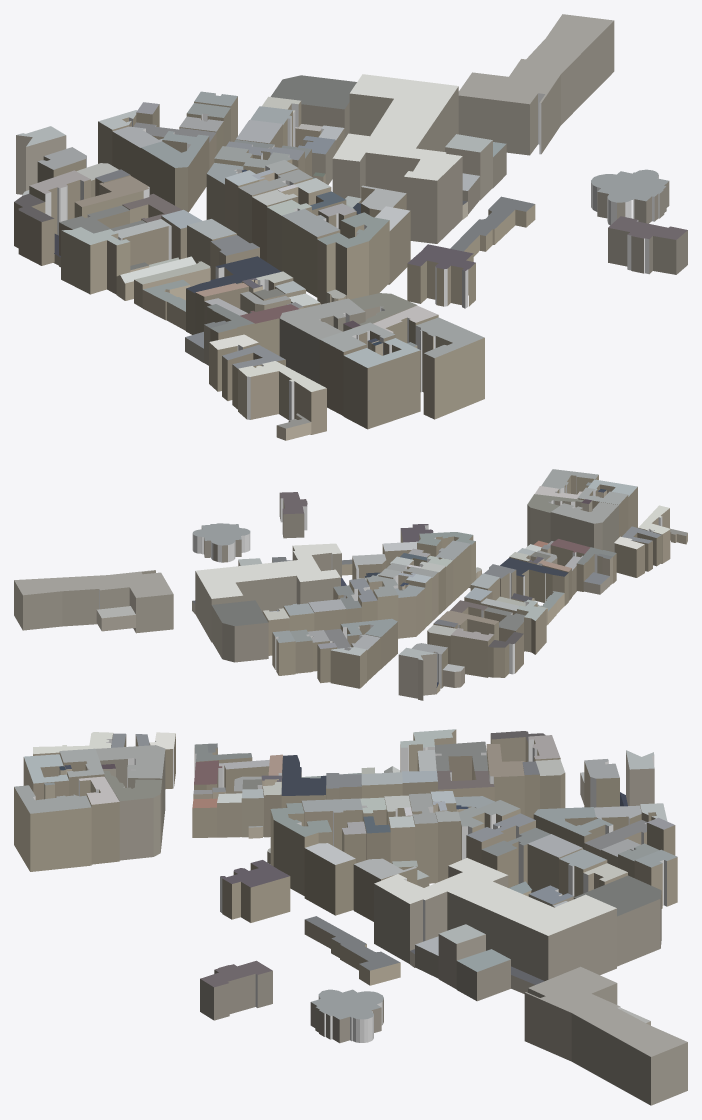
The picture shows the model from 3 angles, top to bottom: view 1: azimuth 30°, elevation 25°; view 2: azimuth 150°, elevation 25°; view 3: azimuth 270°, elevation 25°; orthographic projection. The views are drawn at different scales.
Visible parts, largest first — view 1: tuile; view 2: tuile; view 3: tuile.
Boxes of the visible parts, x1=… form: tuile: x1=14, y1=14, x2=687, y2=440; tuile: x1=14, y1=469, x2=687, y2=700; tuile: x1=14, y1=729, x2=687, y2=1105.
Bounding box in the file's own units: 291 × 38.1 × 270.
